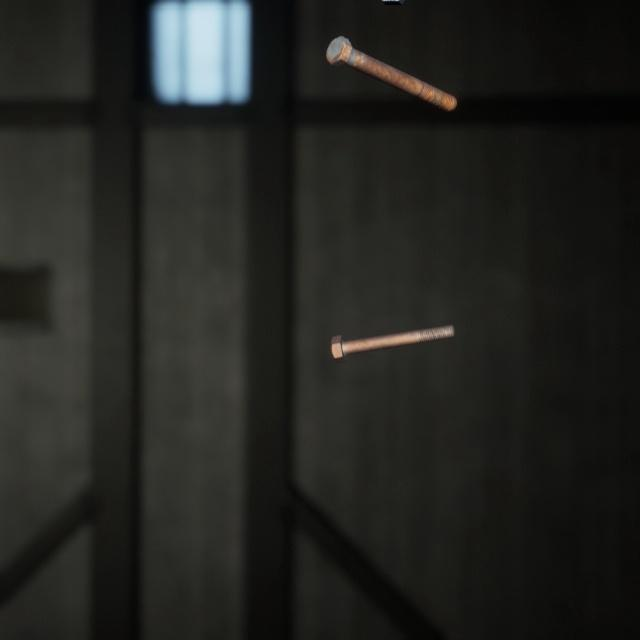bolt: (321, 21, 461, 106), (326, 302, 459, 350)
